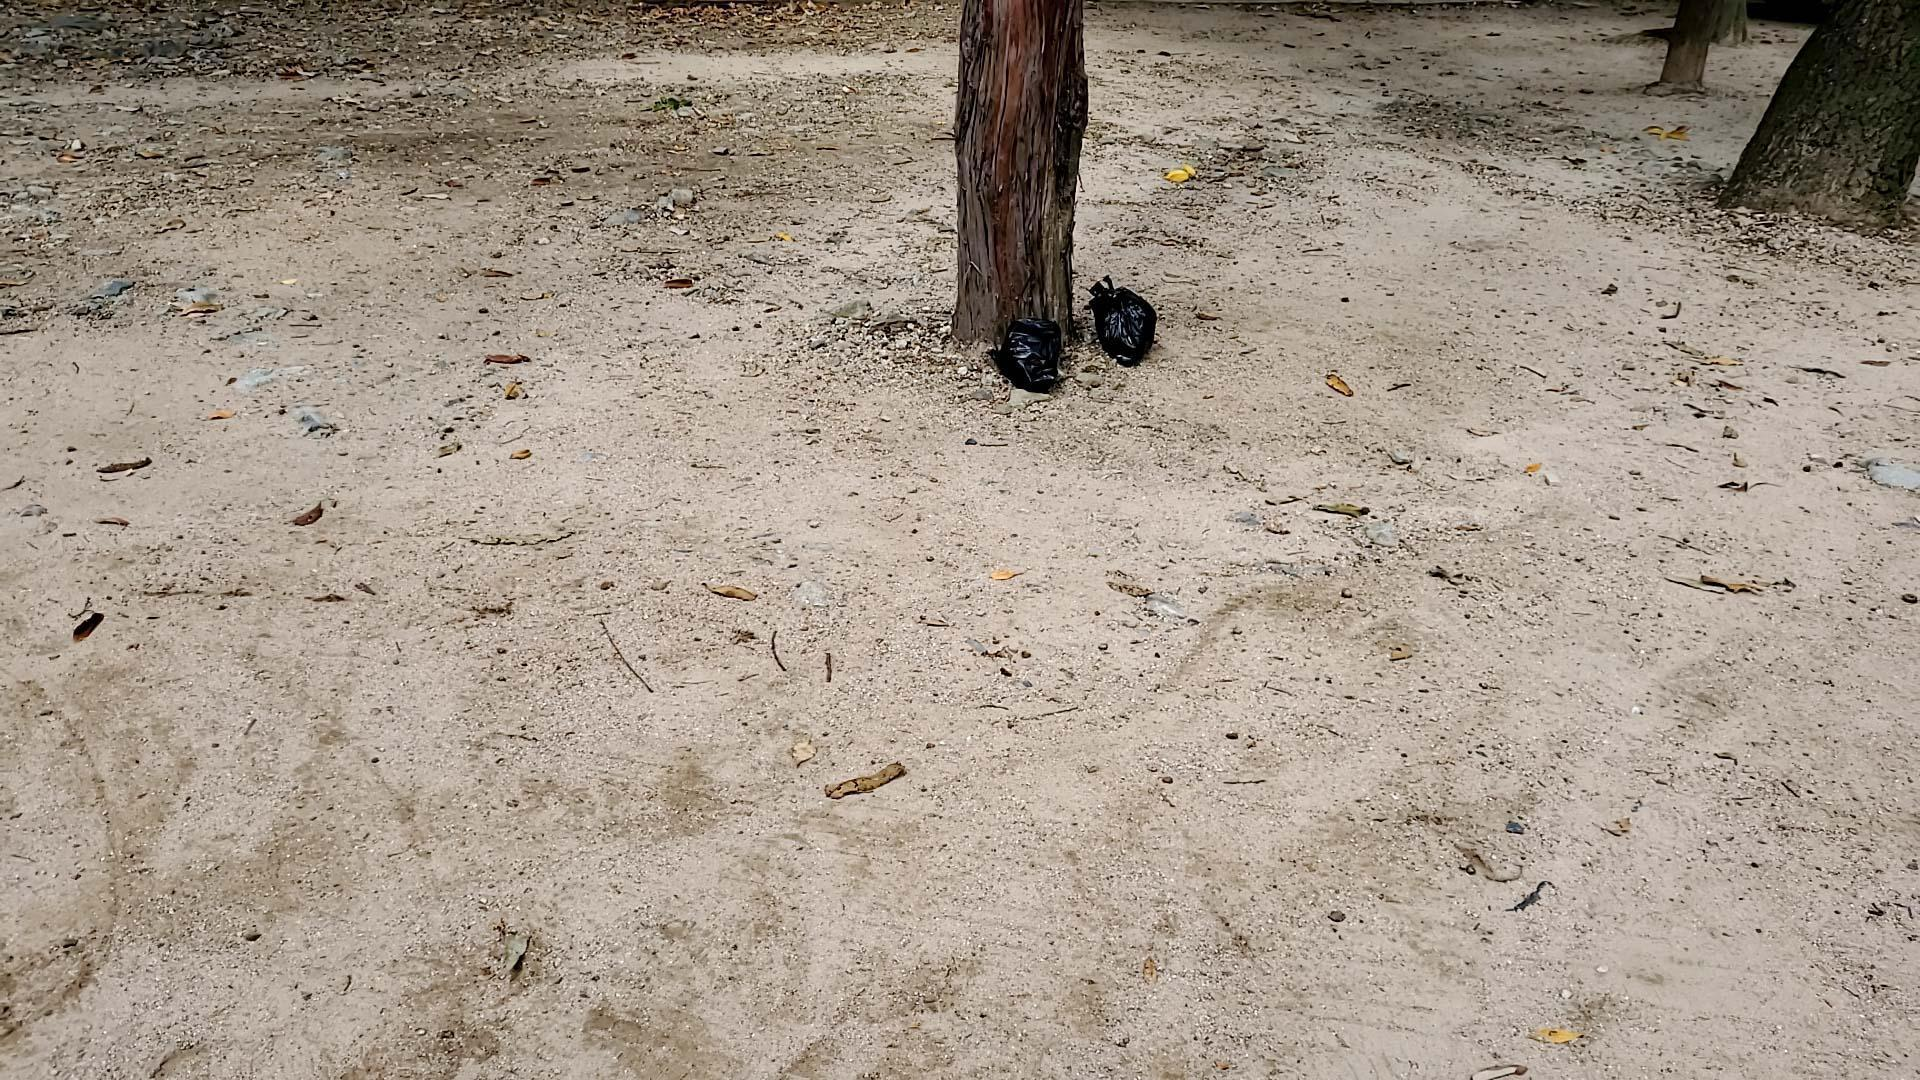black_bag: (1081, 272, 1166, 371), (976, 313, 1067, 396)
